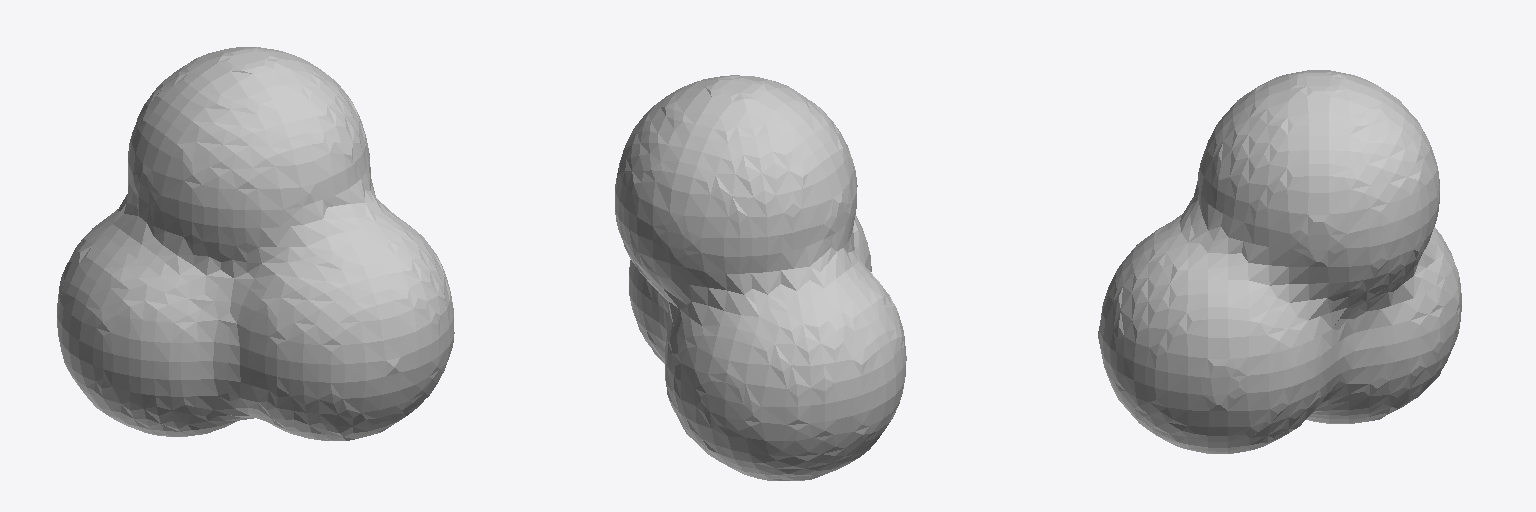
The model's file is smoke01.obj.
The picture shows the model from 3 angles: view 1: azimuth 30°, elevation 25°; view 2: azimuth 150°, elevation 25°; view 3: azimuth 270°, elevation 25°; orthographic projection.
Parts seen in each view (by area): view 1: Smoke_Icosphere.003; view 2: Smoke_Icosphere.003; view 3: Smoke_Icosphere.003.
Part boxes in pixels (bbox=[...]): Smoke_Icosphere.003: bbox=[57, 47, 454, 440]; Smoke_Icosphere.003: bbox=[615, 75, 906, 480]; Smoke_Icosphere.003: bbox=[1098, 70, 1461, 453].
Size of the model in its own units: 2.64 by 2.99 by 2.72.